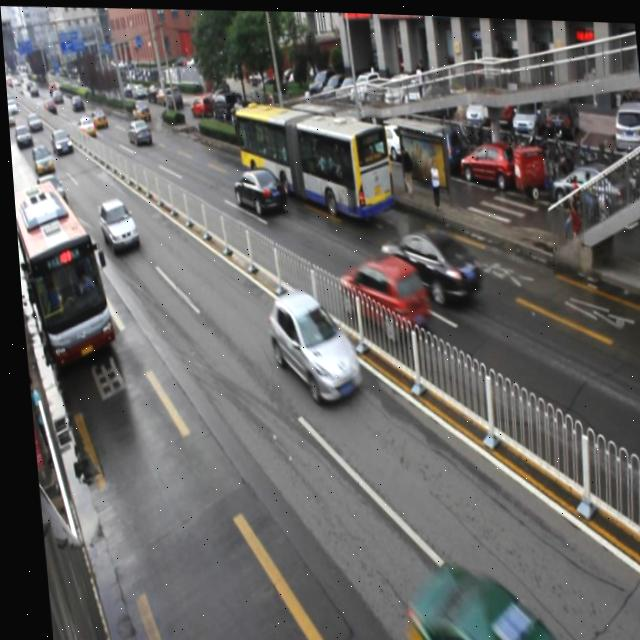car: (262, 285, 357, 403), (376, 224, 477, 303), (330, 254, 427, 336), (228, 166, 282, 213), (95, 198, 136, 251), (33, 174, 65, 208)
van: (230, 96, 391, 220), (10, 179, 110, 368)
